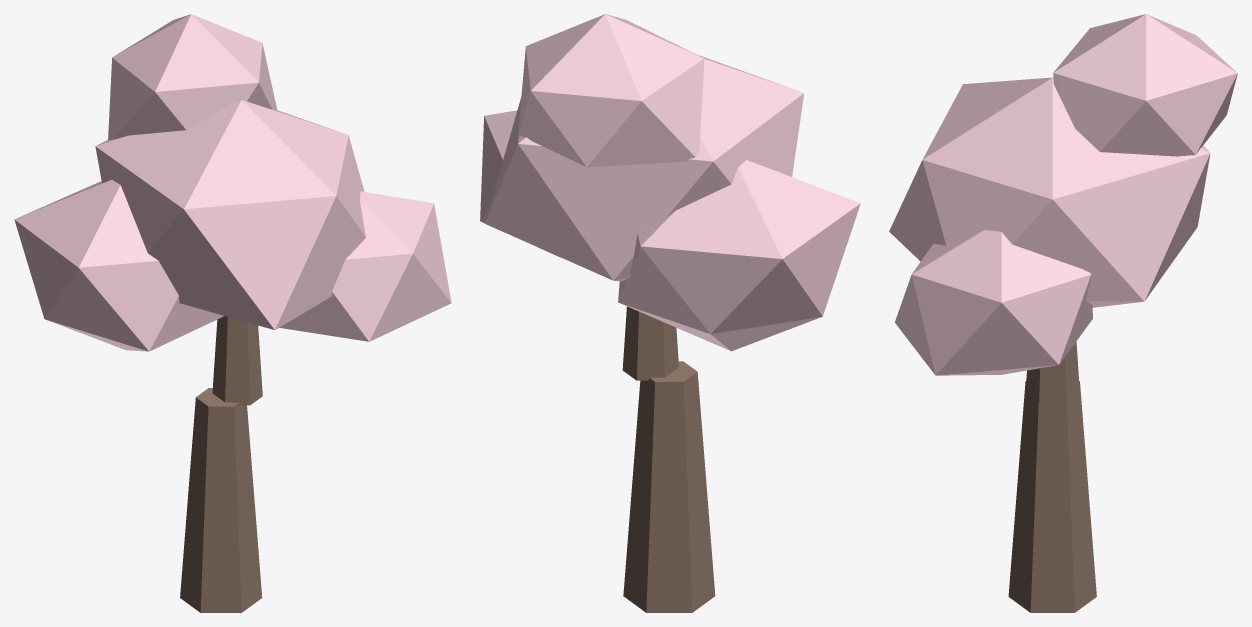
File: Tree.fbx
The picture shows the model from 3 angles, left to right: view 1: azimuth 30°, elevation 25°; view 2: azimuth 150°, elevation 25°; view 3: azimuth 270°, elevation 25°; orthographic projection. The views are drawn at different scales.
Visible parts, largest first — view 1: Tree; view 2: Tree; view 3: Tree.
Part boxes in pixels (box(x1,y1,x2,y2)): Tree: box(14, 14, 451, 612); Tree: box(480, 14, 860, 612); Tree: box(889, 14, 1237, 612).
Size of the model in its own units: 2.53 by 3.83 by 2.05.
